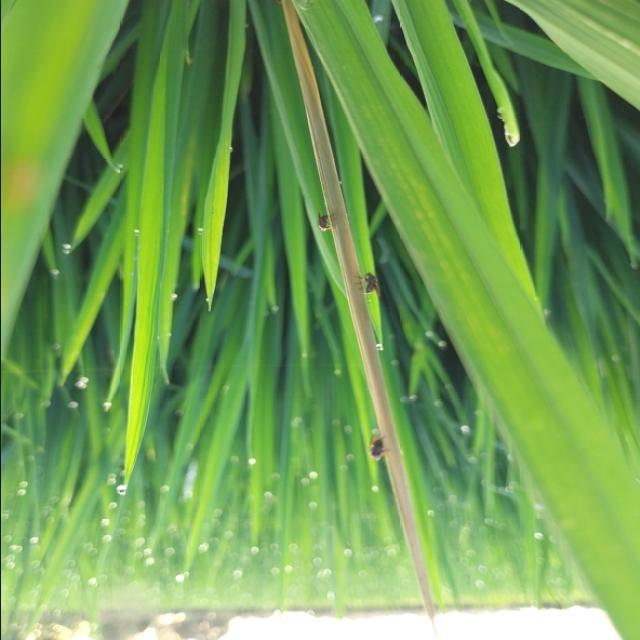Wereng: (288, 198, 406, 316), (336, 404, 426, 508)
